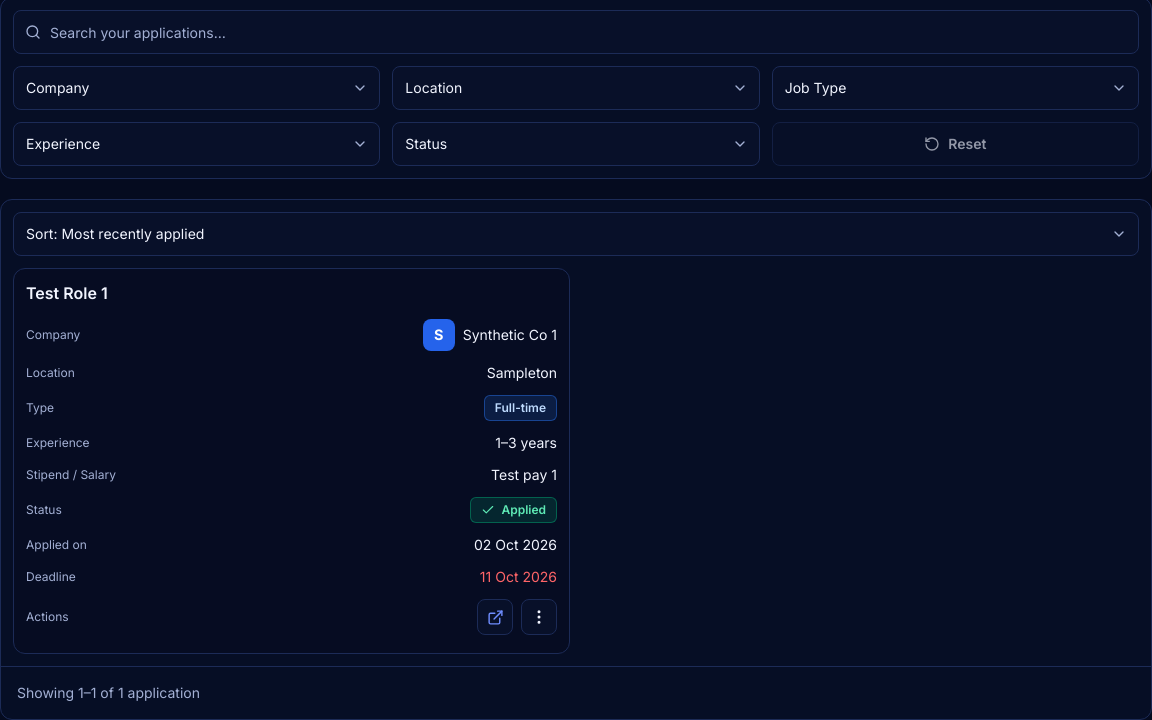
Test: My Applications: updating status › keeps the dialog open and shows the server's message when saving fails
(page scrolled)
Click the button named "More actions: Test Role 1".
click(539, 617)  # box x1=521 y1=599 x2=557 y2=635
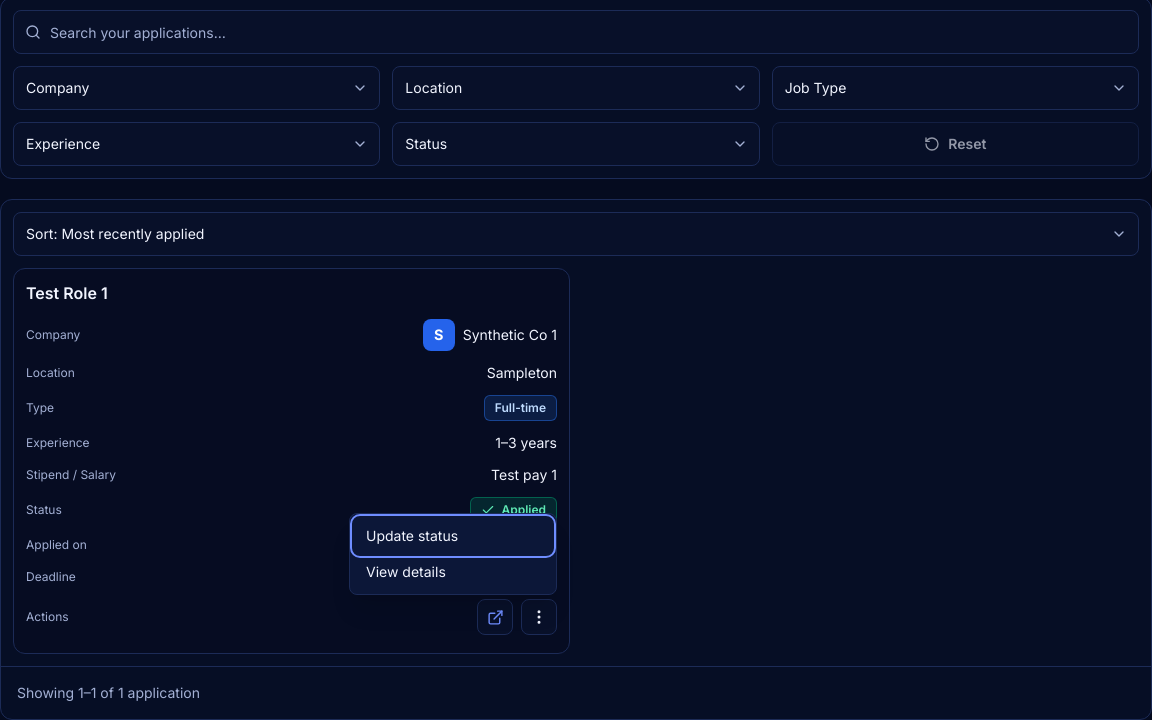
Click the menu item "Update status".
click(453, 536)  # box x1=354 y1=518 x2=552 y2=554
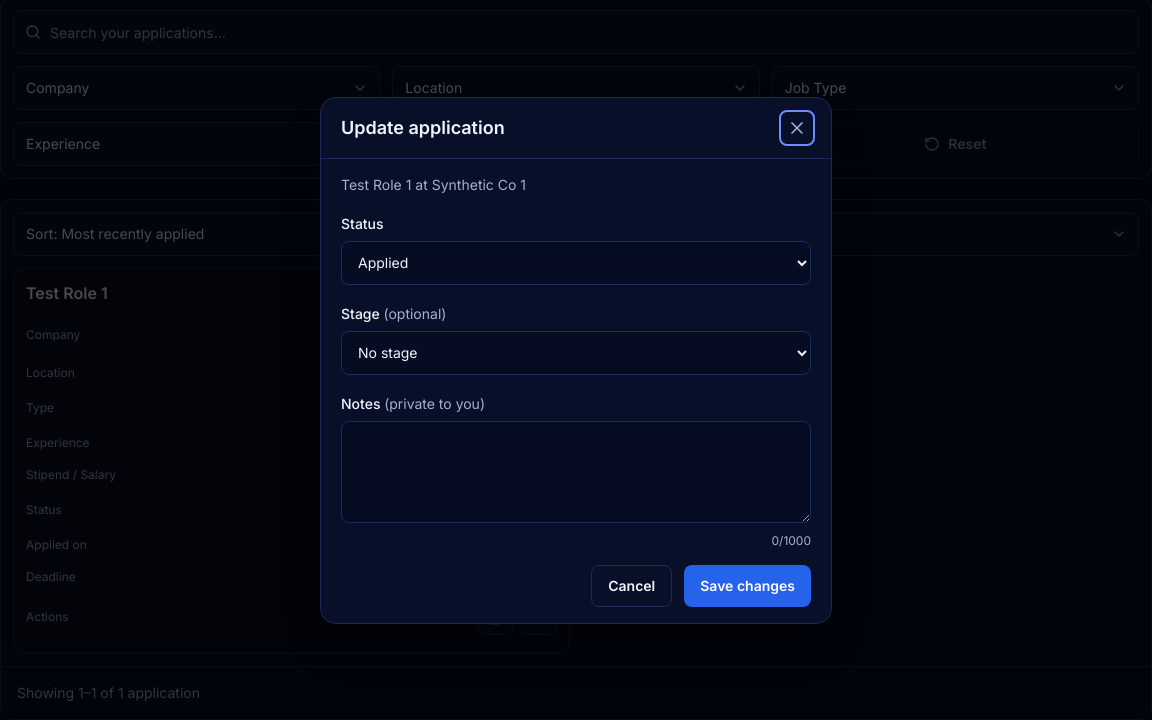
Select "Offer" in the dropdown labelled "Status" at (576, 262), box x1=341 y1=240 x2=811 y2=284
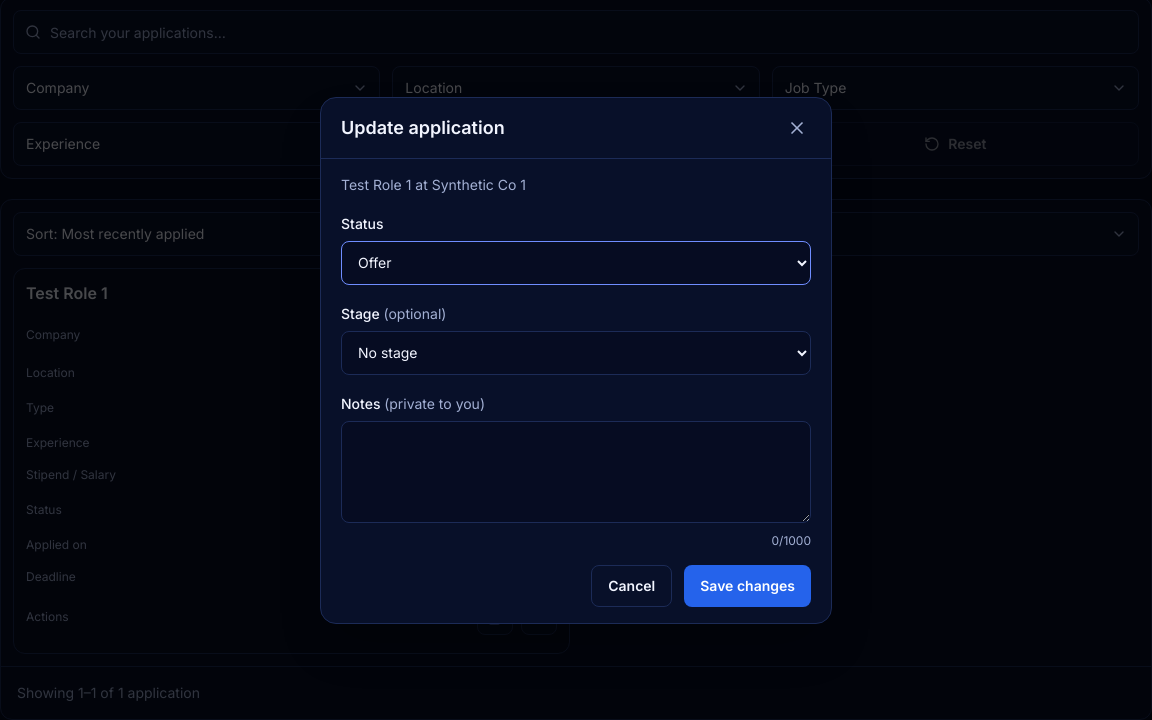
Click the button "Save changes".
click(748, 586)  # box x1=684 y1=564 x2=811 y2=606
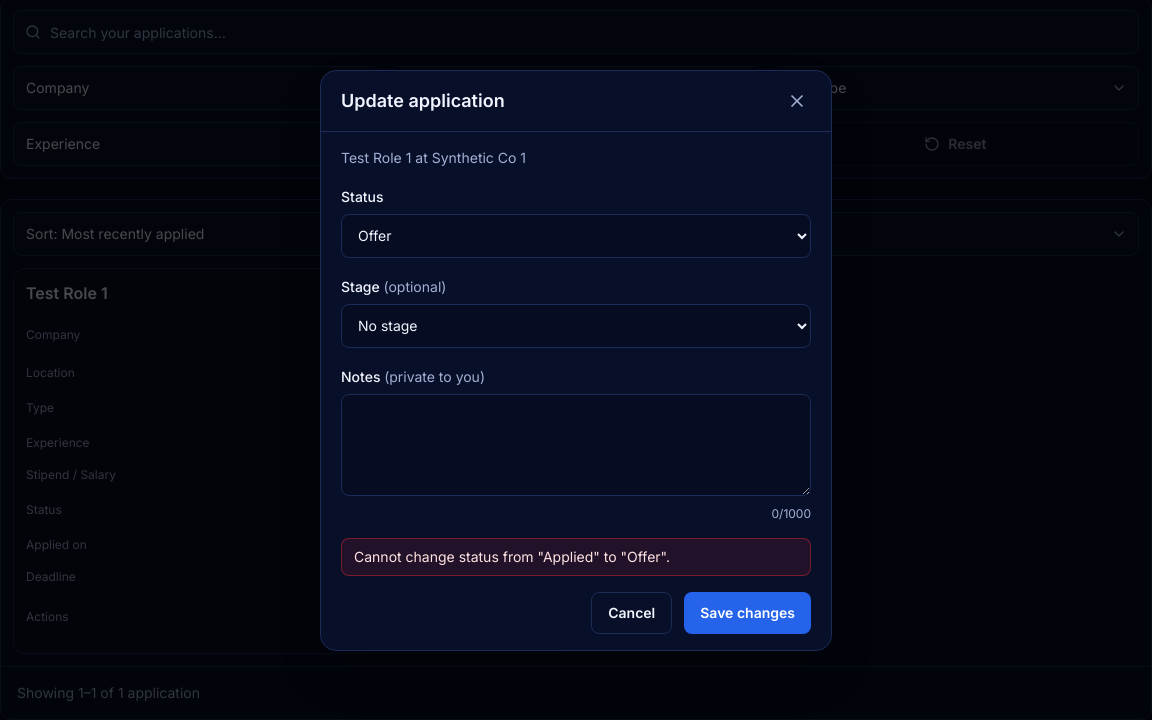
Expected: the dialog "Update application" is shown, x1=320 y1=70 x2=832 y2=650
Expected: the message shows "Cannot change status", x1=354 y1=548 x2=670 y2=564
